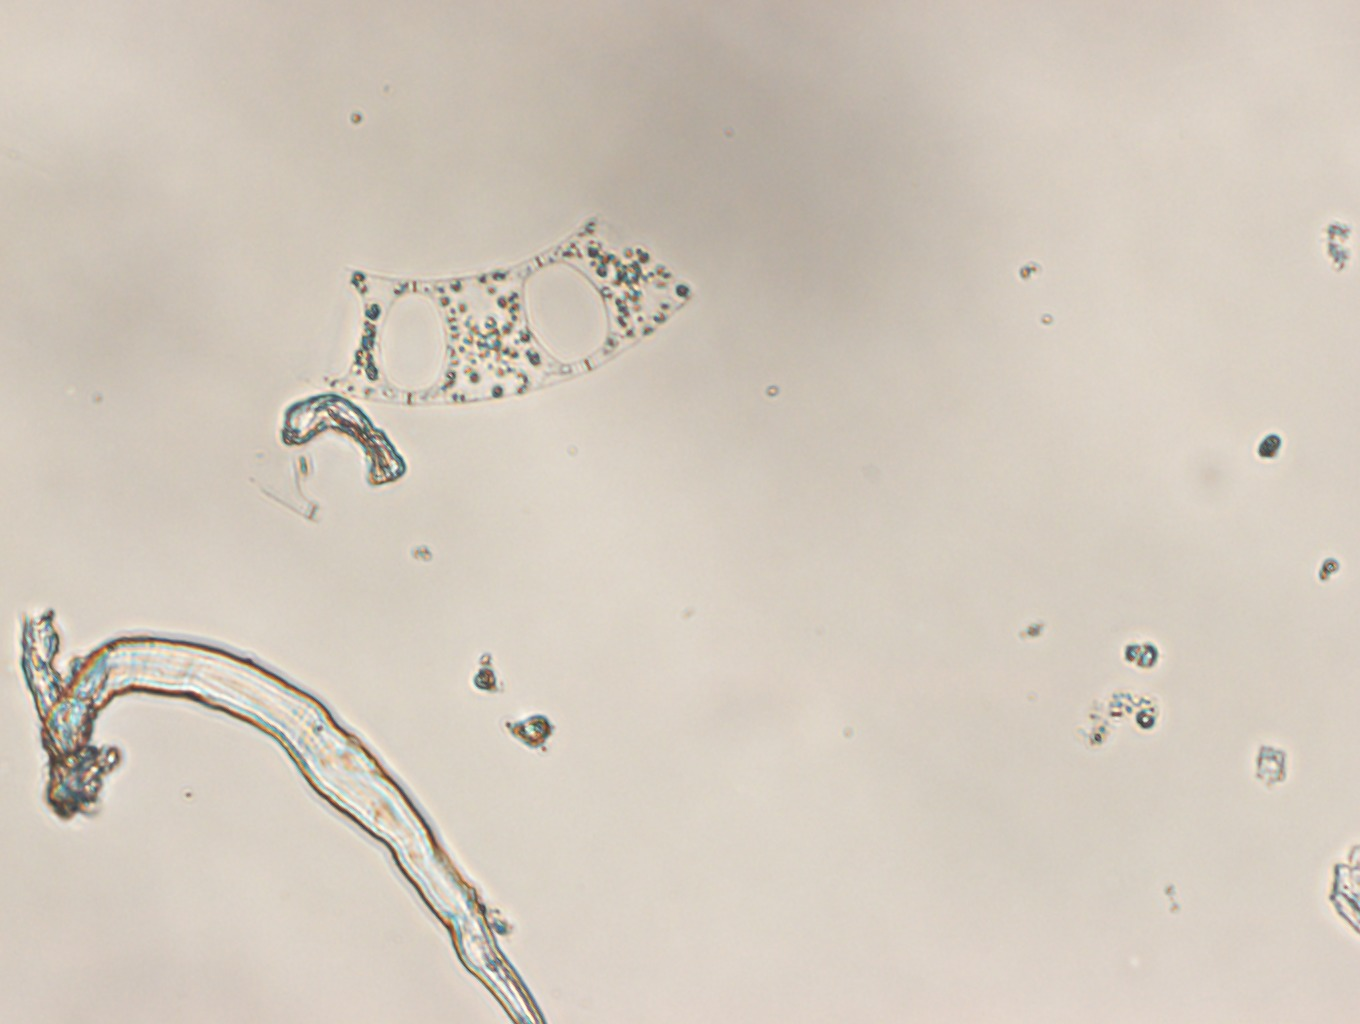eucampia: (323, 214, 697, 411)
